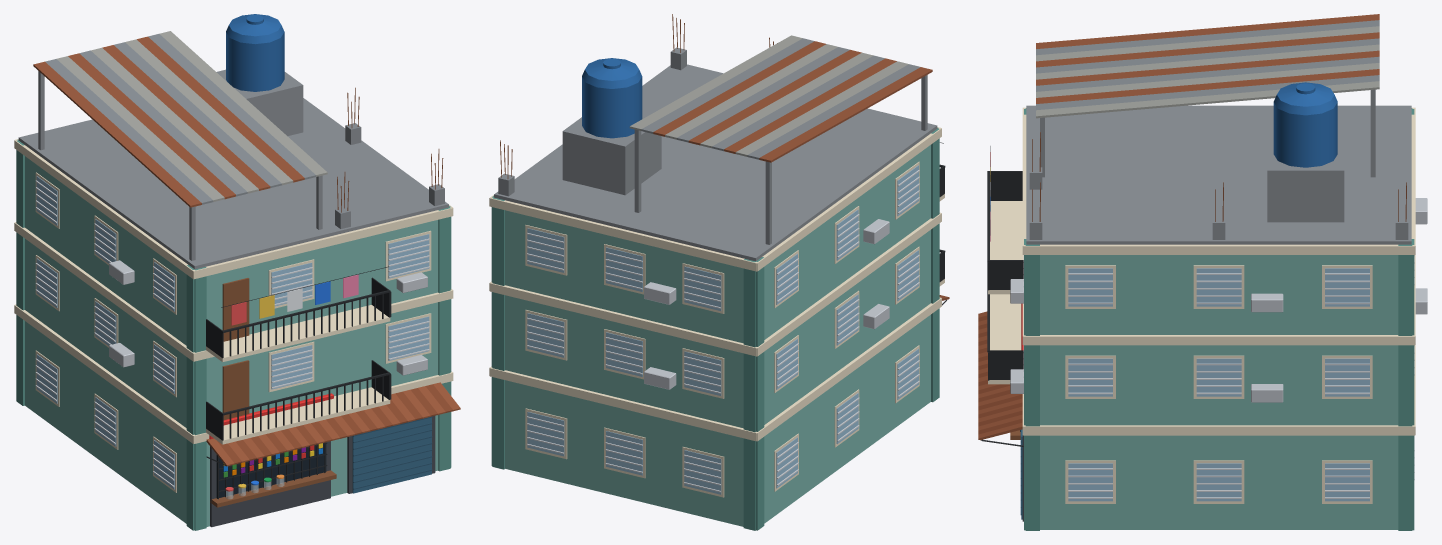
The model's file is tropical.glb.
The picture shows the model from 3 angles, left to right: view 1: azimuth 30°, elevation 25°; view 2: azimuth 150°, elevation 25°; view 3: azimuth 270°, elevation 25°; orthographic projection. The views are drawn at different scales.
Visible parts, largest first — view 1: tropical; view 2: tropical; view 3: tropical.
Part boxes in pixels (bbox=[...]): tropical: bbox=[14, 14, 460, 530]; tropical: bbox=[489, 14, 949, 530]; tropical: bbox=[978, 14, 1427, 530].
Size of the model in its own units: 11 by 14 by 14.
